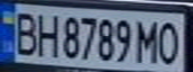7: (78, 14, 96, 61)
8: (57, 11, 81, 60), (97, 15, 118, 62)
9: (112, 16, 136, 63)
B: (9, 8, 42, 56)
H: (33, 9, 60, 58)
M: (133, 17, 163, 64)
O: (154, 17, 184, 65)
